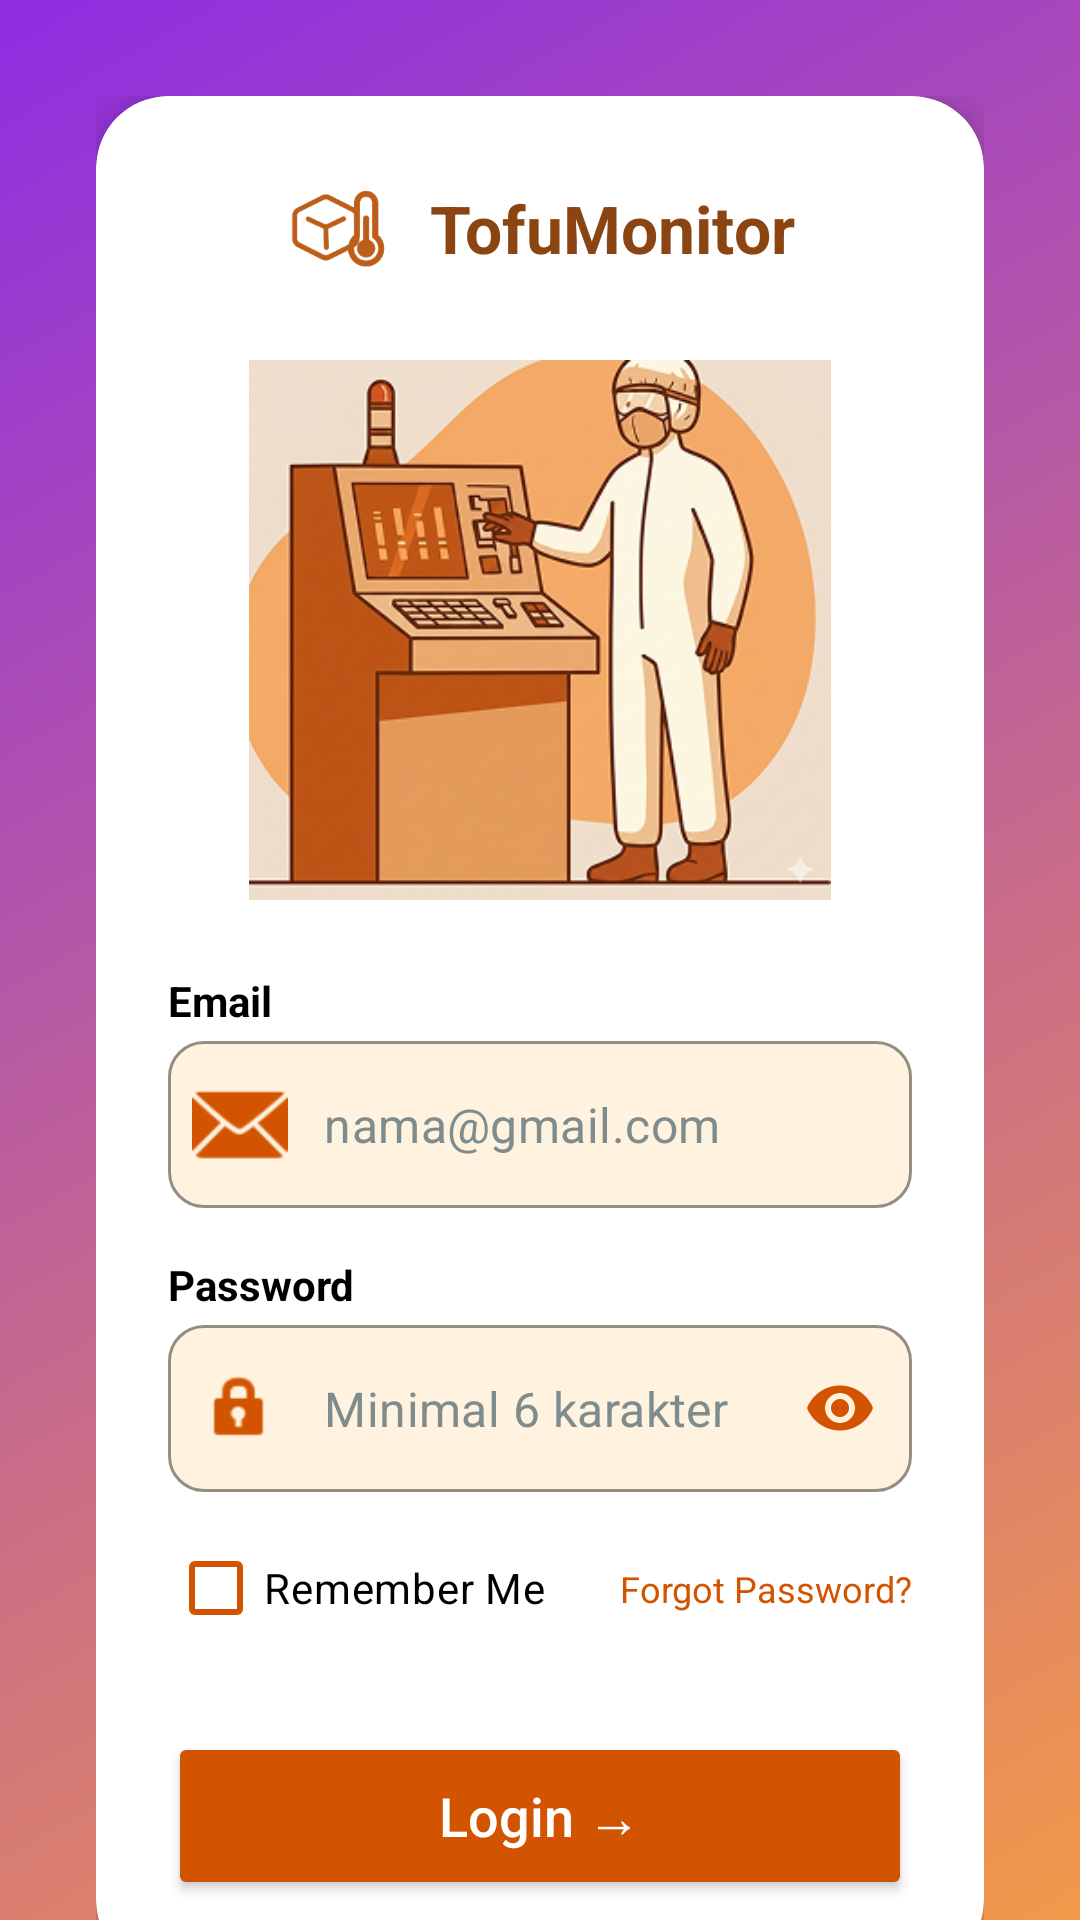

Locate icon controls on the screen. Image size 1080 × 1920, boxes as (x1=x1, y1=y1, x2=x2, y2=y2).
suhutahu: (x1=292, y1=191, x2=385, y2=267)
